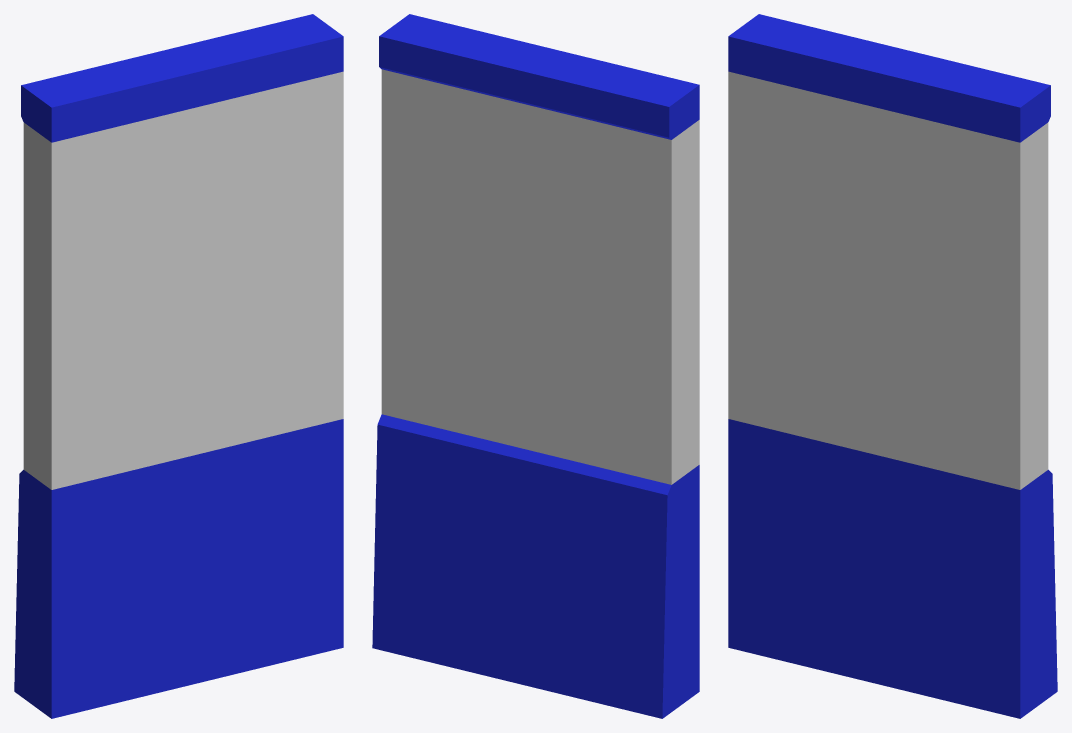
The model's file is wall1.fbx.
3 renders of one model, left to right at view 1: azimuth 30°, elevation 25°; view 2: azimuth 150°, elevation 25°; view 3: azimuth 330°, elevation 25°, orthographic.
Parts seen in each view (by area): view 1: Cube; view 2: Cube; view 3: Cube.
Boxes of the visible parts, box(x1,y1,x2,y2) form: Cube: box(14, 14, 343, 718); Cube: box(372, 14, 699, 718); Cube: box(728, 14, 1057, 718).
Size of the model in its own units: 6 by 12 by 1.33.
